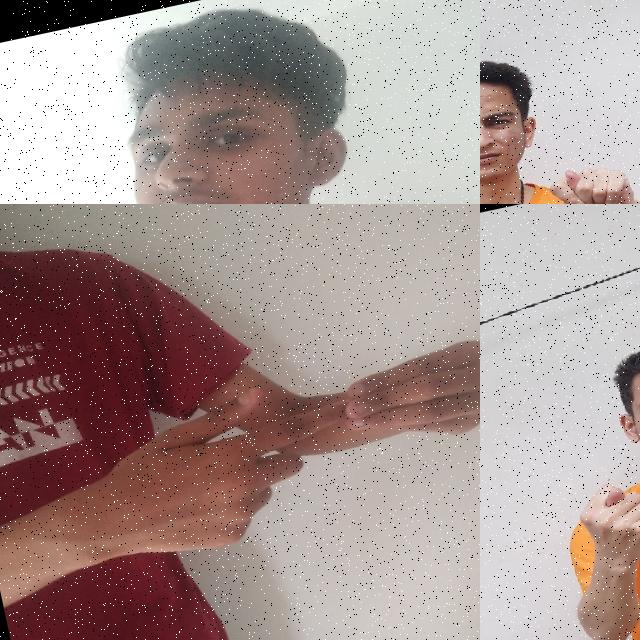Chin Flick: (53, 0, 449, 204)
Dulya: (568, 465, 640, 582), (535, 140, 640, 204)
Five Fathers: (73, 326, 480, 577)
